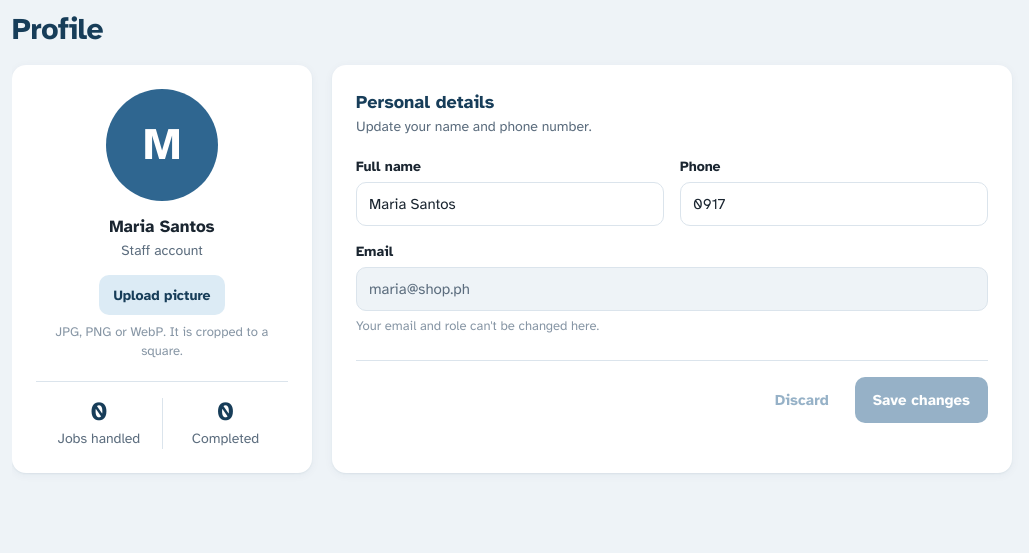
Profile page › saves changed name and shows success
This screenshot has width=1029, height=553.
Replace the text in the field labelled "Full name" with "Maria S. Cruz" at (510, 204), box [356,182,664,226]
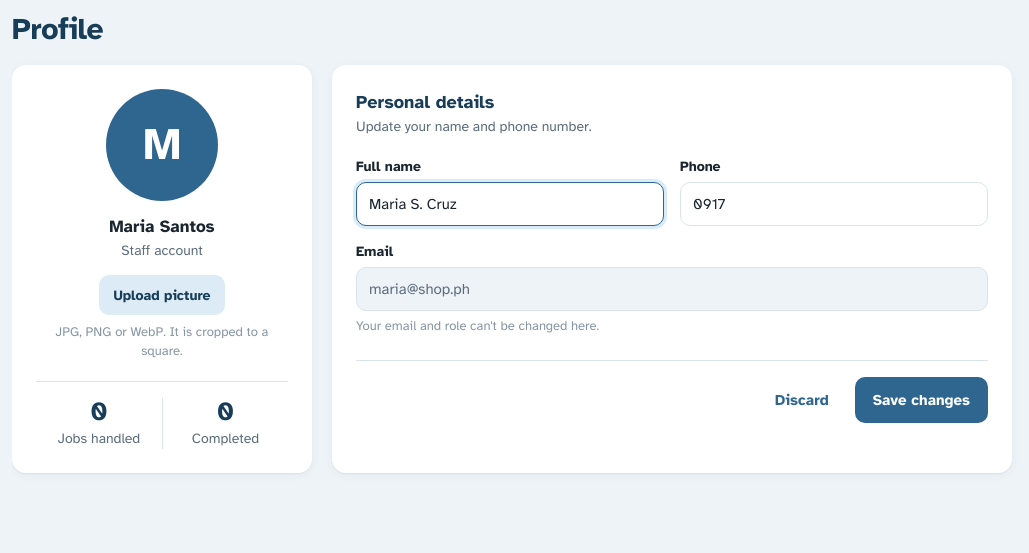
Click the button "Save changes" at (921, 400), box [855,377,988,423]
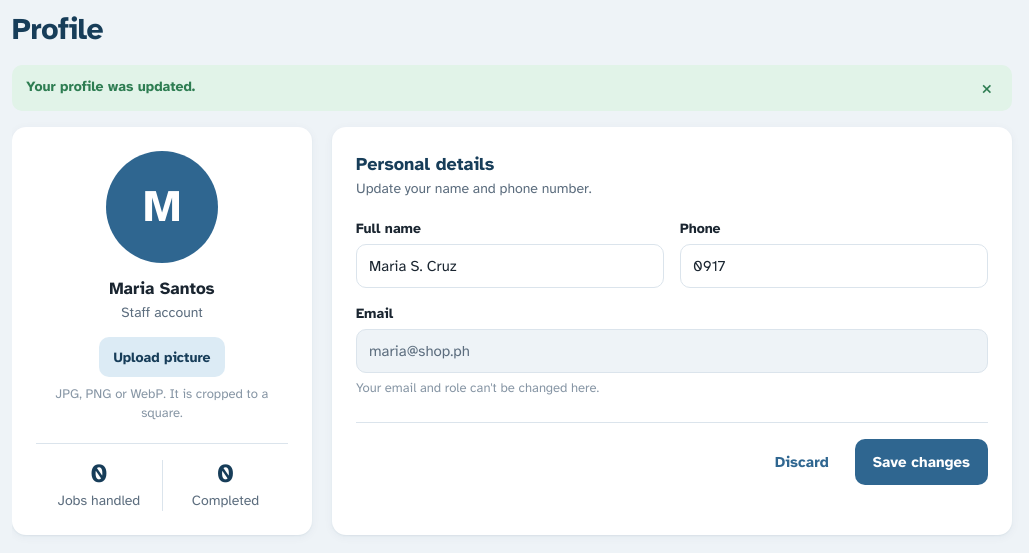
Expected: the text "Your profile was updated." is shown, [26,78,195,95]
